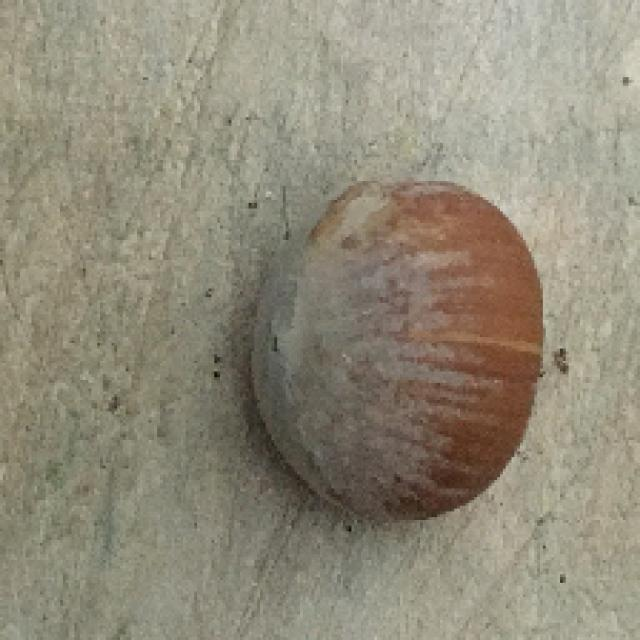qualityHazelnut: (245, 182, 554, 507)
